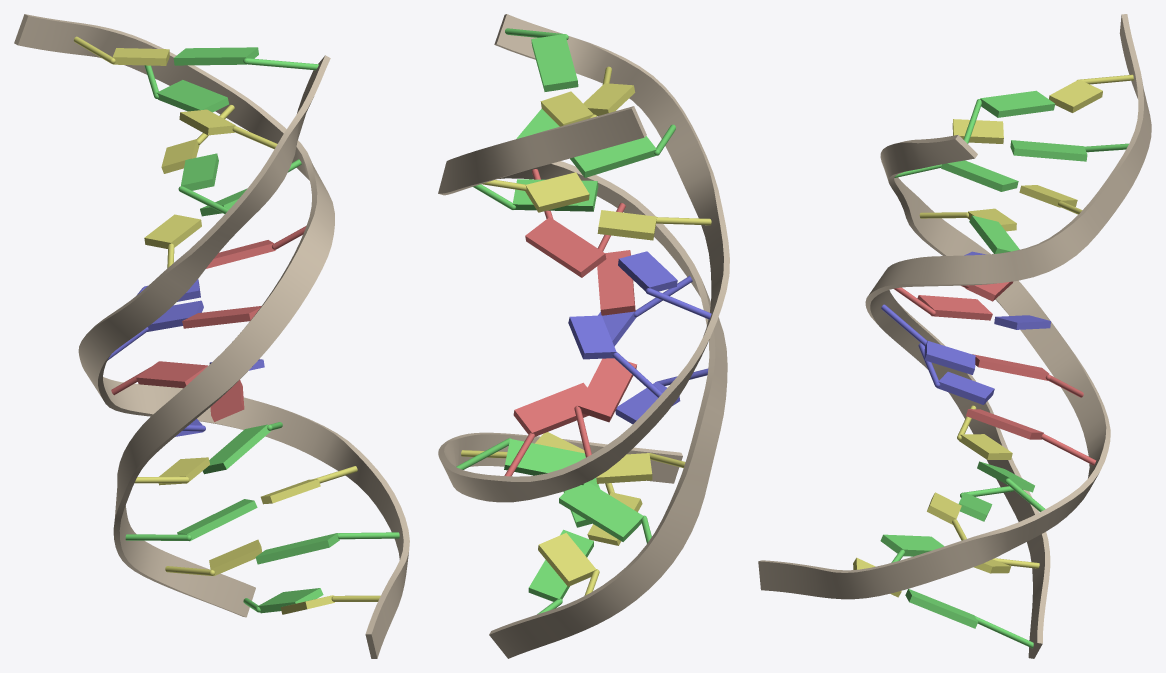
Rendered from PRP_DNA.glb.
The picture shows the model from 3 angles, left to right: view 1: azimuth 30°, elevation 25°; view 2: azimuth 150°, elevation 25°; view 3: azimuth 270°, elevation 25°; orthographic projection. The views are drawn at different scales.
Visible parts, largest first — view 1: Object_5; view 2: Object_5; view 3: Object_5.
Boxes of the visible parts, x1=… form: Object_5: x1=14, y1=14, x2=409, y2=658; Object_5: x1=438, y1=14, x2=729, y2=658; Object_5: x1=758, y1=14, x2=1151, y2=658.
Size of the model in its own units: 1.96 by 4.26 by 2.67.
